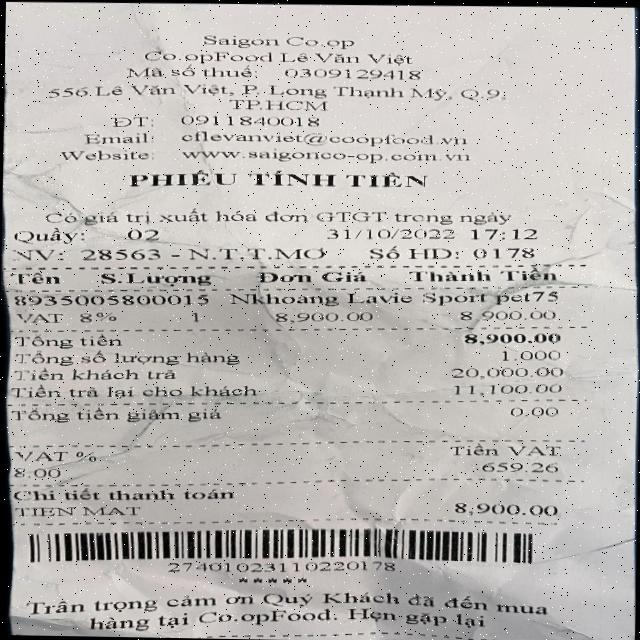Date: (310, 220, 466, 245)
Store_Name: (156, 30, 397, 53)
amount_number: (449, 330, 577, 348)
label_total: (6, 332, 130, 350)
